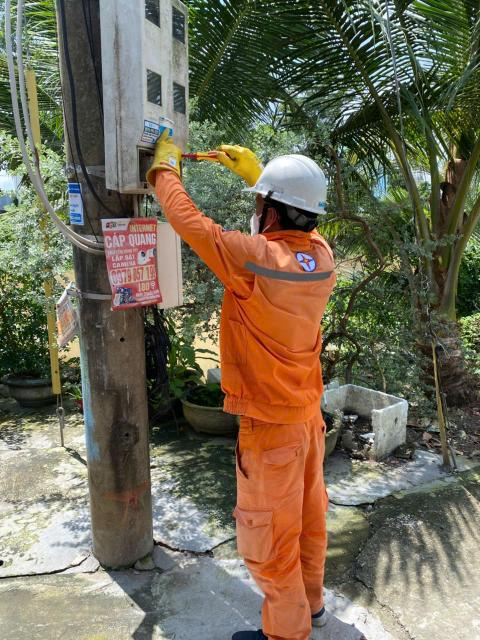gloves: (135, 132, 193, 195), (214, 137, 270, 188)
helmet: (244, 156, 338, 229)
shoes: (228, 625, 292, 640)
